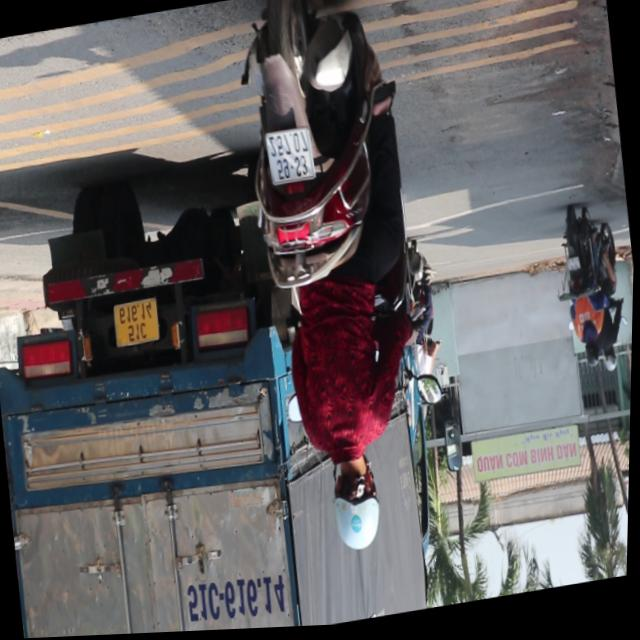helmet: (324, 457, 387, 560)
licenseplate: (210, 0, 459, 573)
nohelmet: (264, 129, 316, 188)
